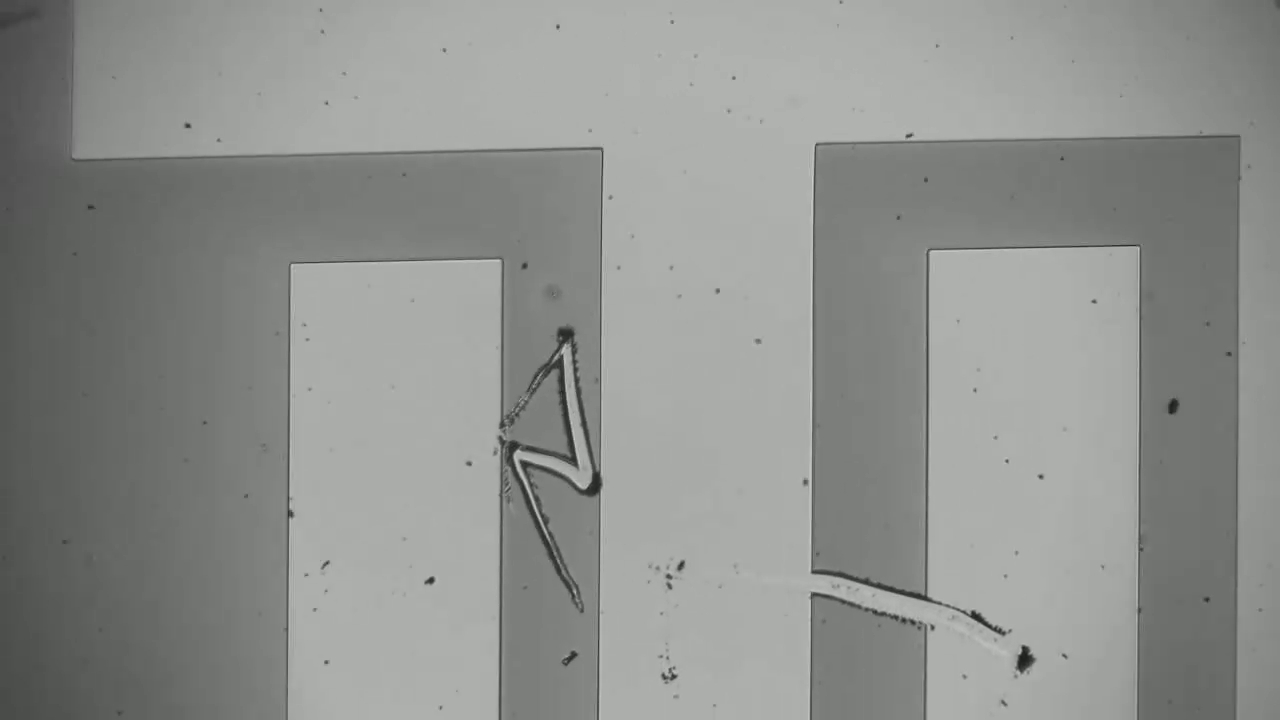Short_circuit: (773, 536, 962, 645), (473, 427, 622, 513)
